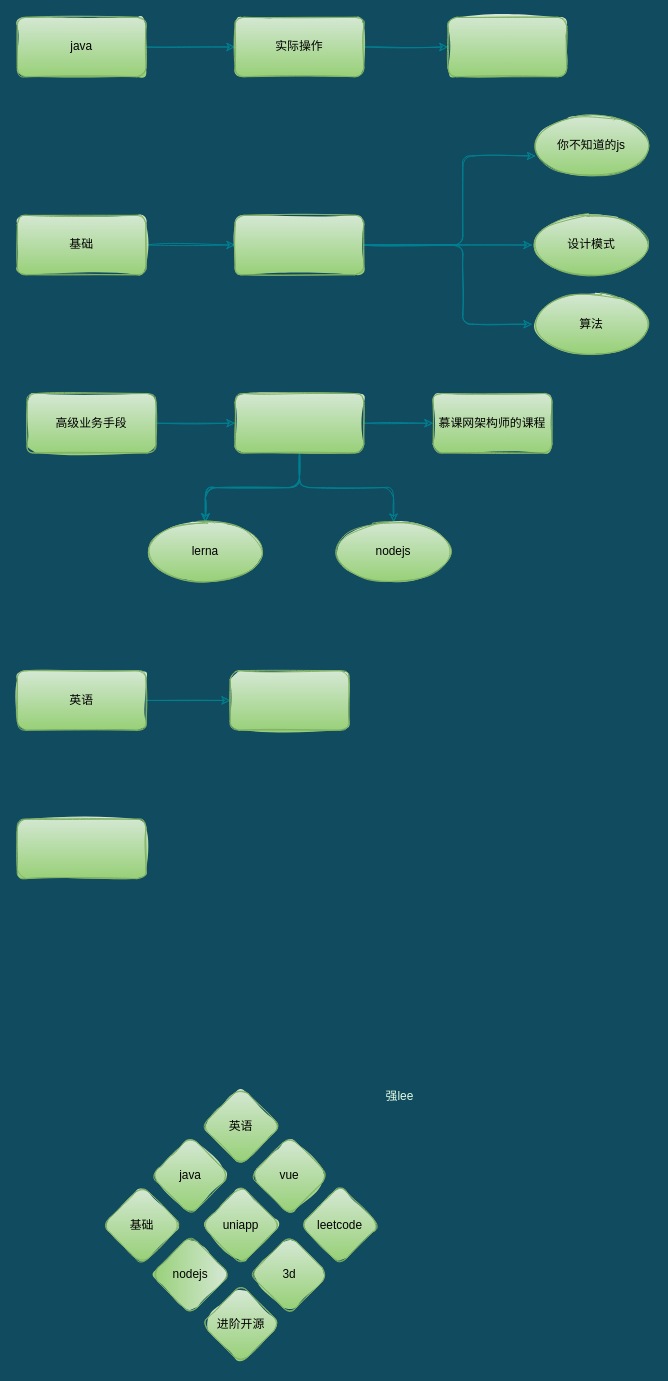
The diagram is 668 pixels wide and 1381 high, and some of its shapes have lost their labels. Each missing label, with the centre of its shape:
"听johnha" belongs at point (289, 700).
"当前" belongs at point (81, 848).
"慕课网找一套课" belongs at point (507, 46).
"看书" belongs at point (299, 244).
"脚手架" belongs at point (299, 423).
